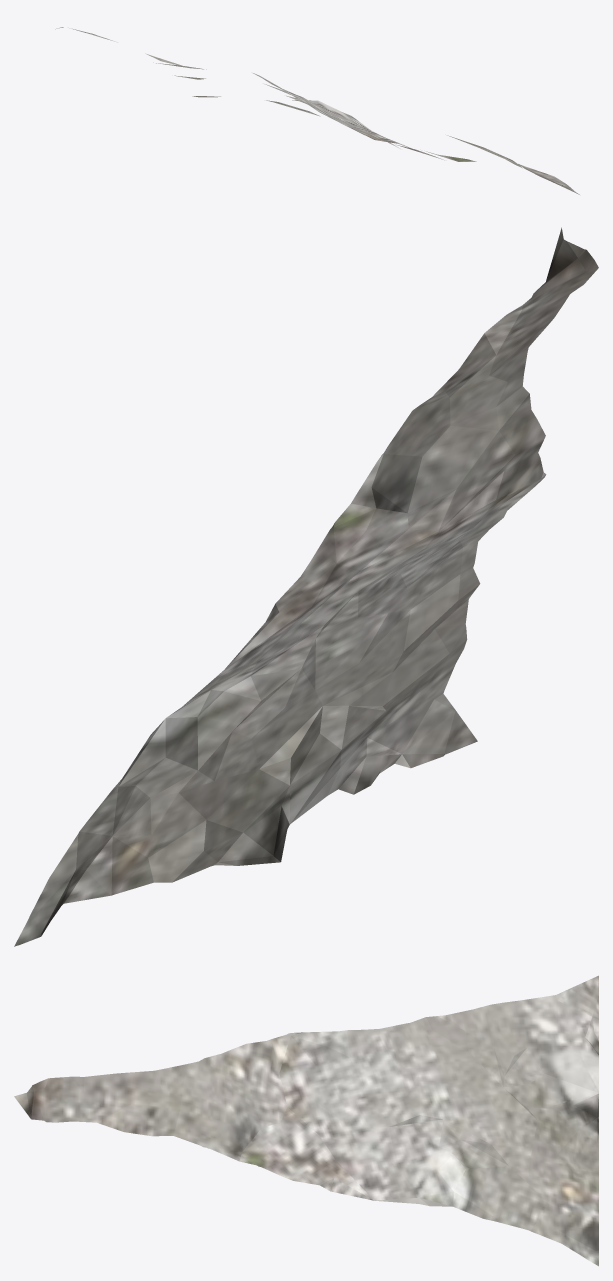
3 renders of one model, top to bottom at view 1: azimuth 30°, elevation 25°; view 2: azimuth 150°, elevation 25°; view 3: azimuth 270°, elevation 25°, orthographic. The views are drawn at different scales.
Size of the model in its own units: 1.2 by 0.7858 by 2.45.
1 material, 1 textured.
